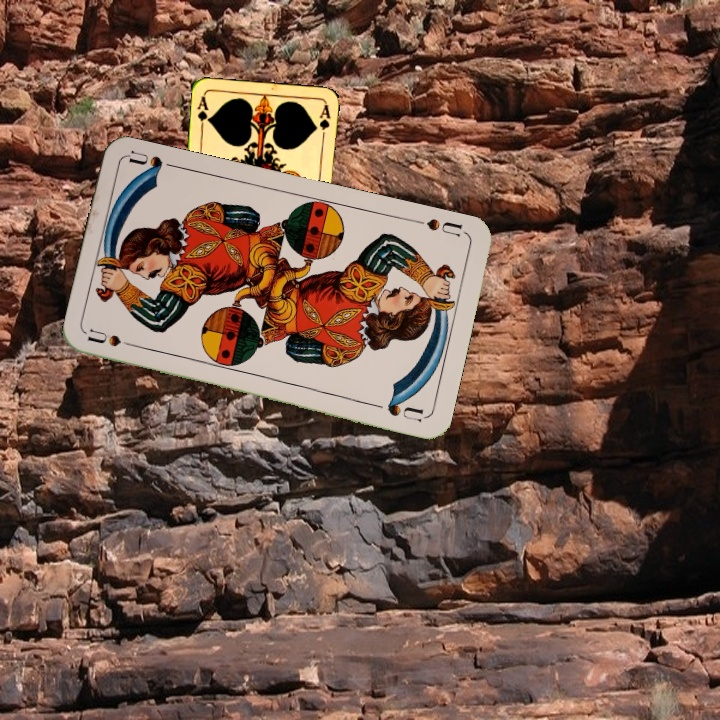GA: (193, 92, 213, 133)
SU: (85, 326, 144, 352), (422, 214, 468, 239)
